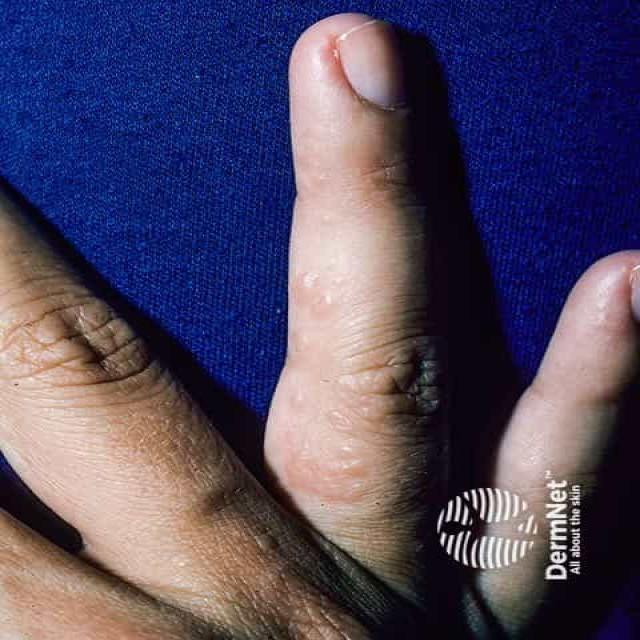Eczema: (285, 135, 377, 506)
